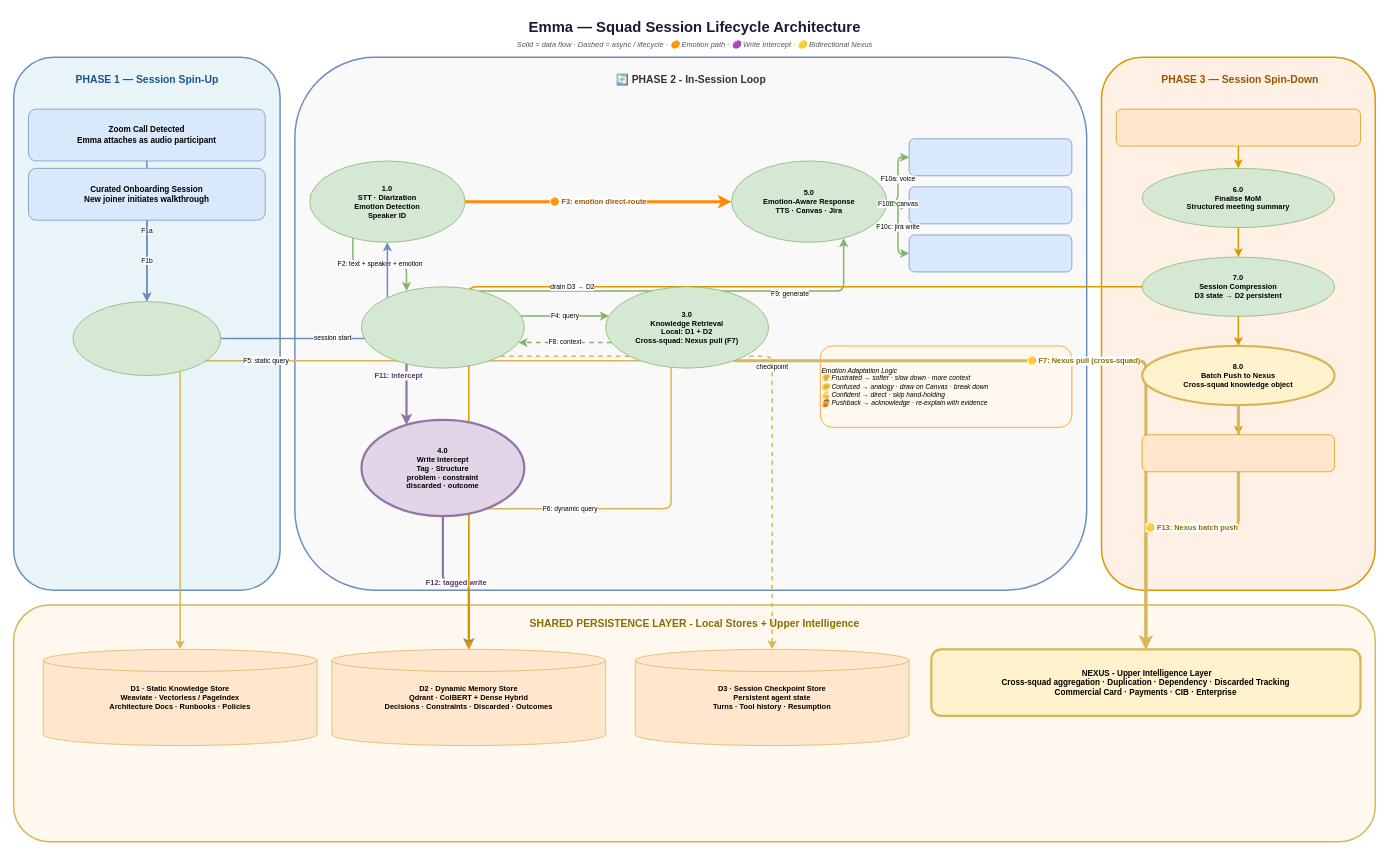
This 1388x855 diagram has some shape labels left out. Each missing label, with the centre of its shape:
"0.0 Session Initialisation Load squad context Init session state" belongs at point (146, 338).
"2.0 Agentic Orchestration LLM · Intent · Routing Tool Selection" belongs at point (442, 327).
"Call Ends / Session Closes" belongs at point (1238, 127).
"Emma Detaches Session terminated" belongs at point (1238, 453).
"📋 Jira Live writing during call" belongs at point (990, 253).
"🔊 TTS Voice Response to team" belongs at point (990, 157).
"🖼 Canvas Visual output (one-way)" belongs at point (990, 205).
